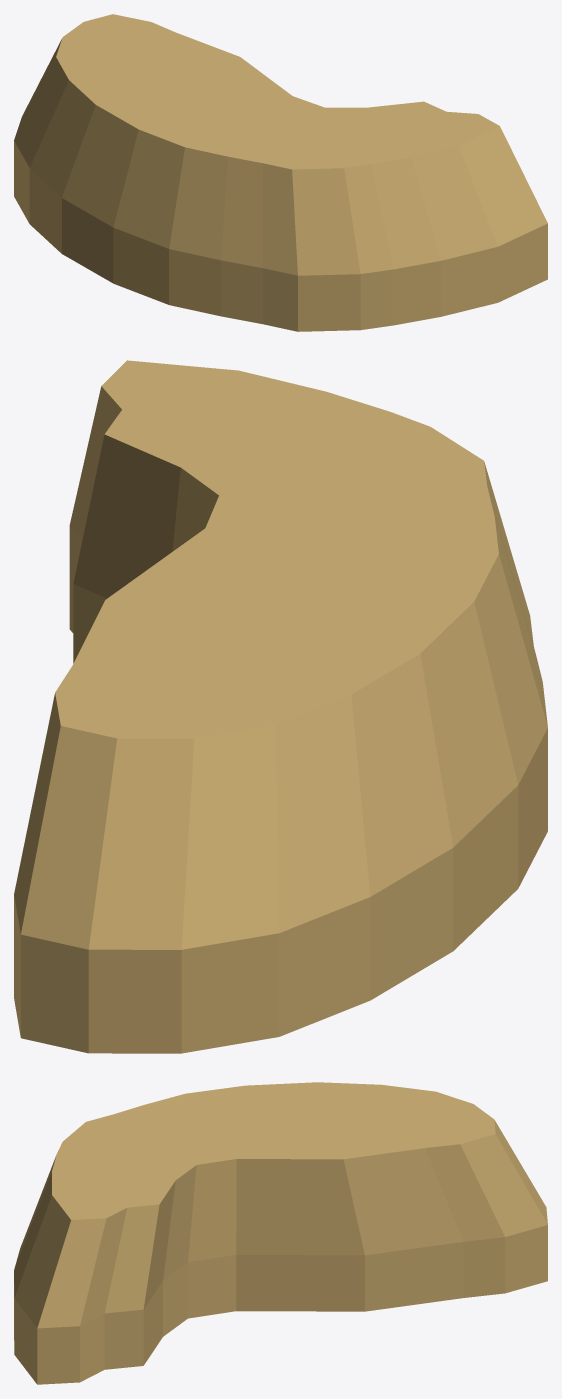
The model's file is RedObstacle4.fbx.
3 renders of one model, top to bottom at view 1: azimuth 30°, elevation 25°; view 2: azimuth 150°, elevation 25°; view 3: azimuth 270°, elevation 25°, orthographic. The views are drawn at different scales.
Visible parts, largest first — view 1: RedObstacle4; view 2: RedObstacle4; view 3: RedObstacle4.
Part boxes in pixels (x1,y1,x2,y2): RedObstacle4: (14,14,547,331); RedObstacle4: (14,360,547,1053); RedObstacle4: (14,1082,547,1384).
Bounding box in the file's own units: 3.71 × 1.56 × 5.05.
